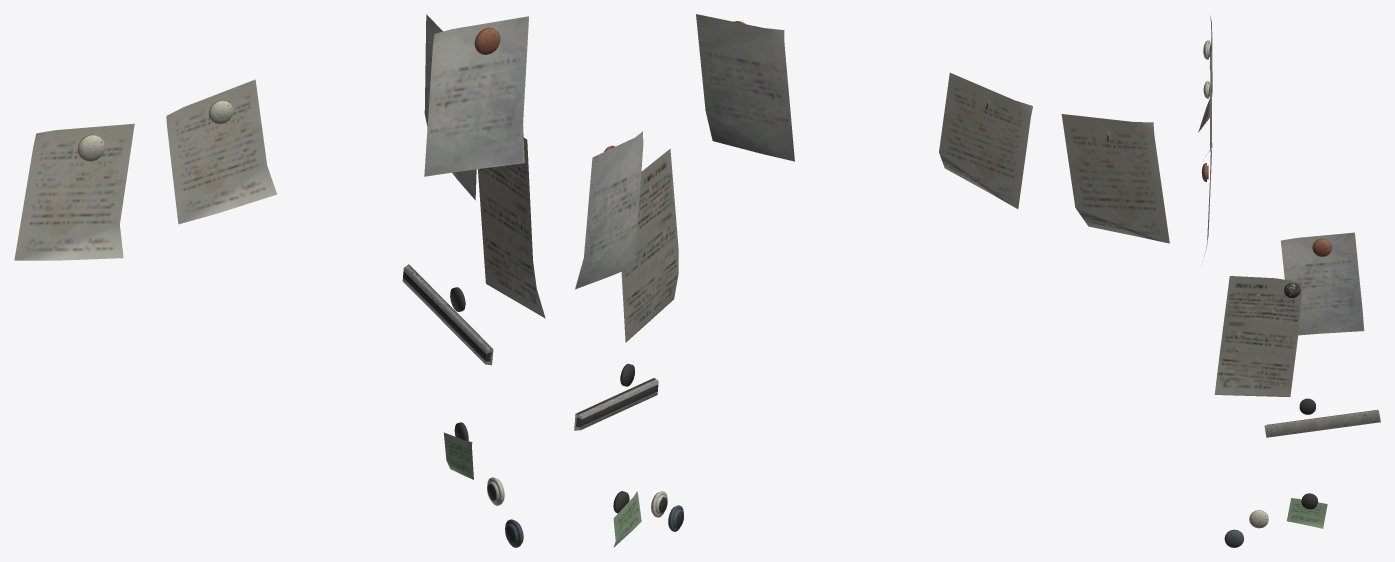
Rendered from 093_papermagnet02a.fbx.
The picture shows the model from 3 angles, left to right: view 1: azimuth 30°, elevation 25°; view 2: azimuth 150°, elevation 25°; view 3: azimuth 270°, elevation 25°; orthographic projection. The views are drawn at different scales.
Parts seen in each view (by area): view 1: LOD_1_Group_2_Sub_1__sm36_012_PaperMagnet01A_A_Mat, LOD_1_Group_0_Sub_1__sm36_012_PaperMagnet01A_A_Mat, LOD_1_Group_1_Sub_1__sm36_012_PaperMagnet01A_A_Mat; view 2: LOD_1_Group_0_Sub_1__sm36_012_PaperMagnet01A_A_Mat, LOD_1_Group_2_Sub_1__sm36_012_PaperMagnet01A_A_Mat, LOD_1_Group_1_Sub_1__sm36_012_PaperMagnet01A_A_Mat; view 3: LOD_1_Group_0_Sub_1__sm36_012_PaperMagnet01A_A_Mat, LOD_1_Group_1_Sub_1__sm36_012_PaperMagnet01A_A_Mat, LOD_1_Group_2_Sub_1__sm36_012_PaperMagnet01A_A_Mat.
Part boxes in pixels (x1=…): LOD_1_Group_2_Sub_1__sm36_012_PaperMagnet01A_A_Mat: x1=166, y1=16, x2=528, y2=224; LOD_1_Group_0_Sub_1__sm36_012_PaperMagnet01A_A_Mat: x1=14, y1=14, x2=545, y2=365; LOD_1_Group_1_Sub_1__sm36_012_PaperMagnet01A_A_Mat: x1=443, y1=422, x2=523, y2=547; LOD_1_Group_0_Sub_1__sm36_012_PaperMagnet01A_A_Mat: x1=574, y1=114, x2=1169, y2=430; LOD_1_Group_2_Sub_1__sm36_012_PaperMagnet01A_A_Mat: x1=696, y1=14, x2=1032, y2=208; LOD_1_Group_1_Sub_1__sm36_012_PaperMagnet01A_A_Mat: x1=613, y1=491, x2=683, y2=547; LOD_1_Group_0_Sub_1__sm36_012_PaperMagnet01A_A_Mat: x1=1198, y1=16, x2=1380, y2=437; LOD_1_Group_1_Sub_1__sm36_012_PaperMagnet01A_A_Mat: x1=1224, y1=493, x2=1327, y2=547; LOD_1_Group_2_Sub_1__sm36_012_PaperMagnet01A_A_Mat: x1=1201, y1=67, x2=1212, y2=256.
Size of the model in its own units: 1.2 by 1.18 by 0.5264.
